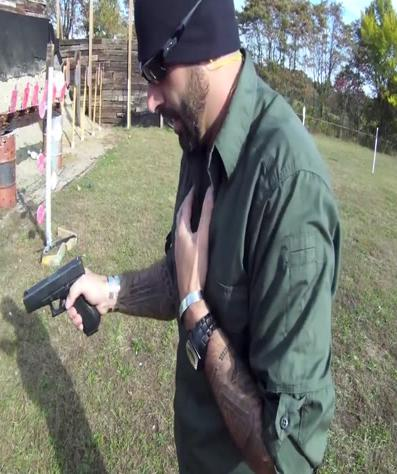pistol: (23, 255, 101, 336)
